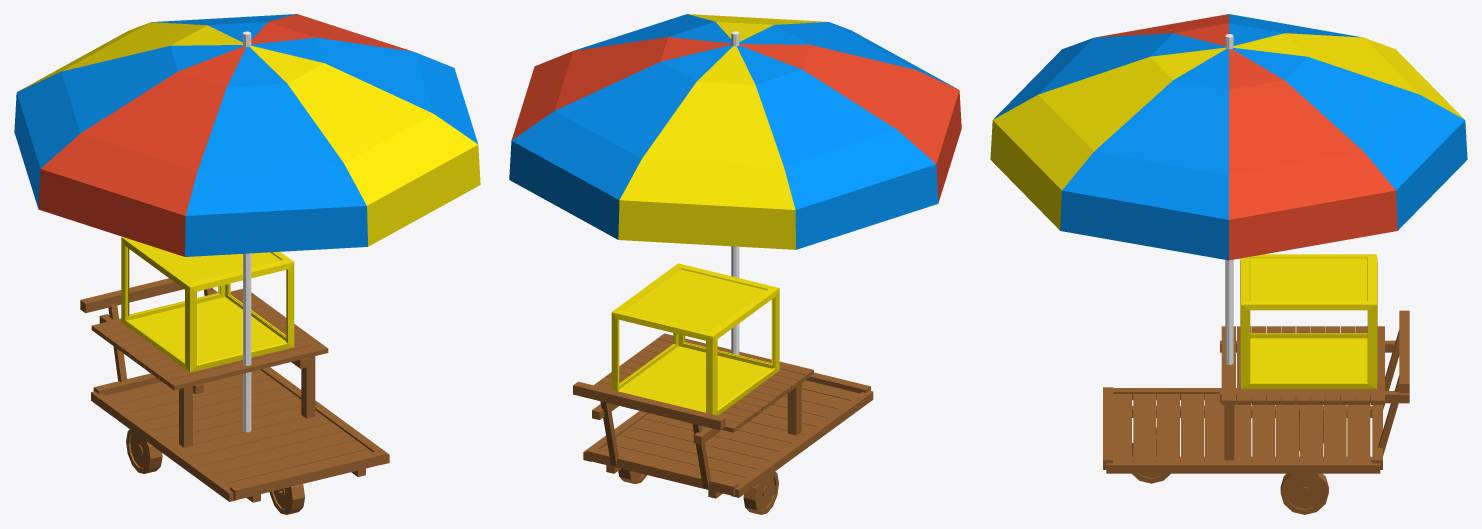
File: pinyapapayapakwan.fbx
3 views of the same model, side by side, from view 1: azimuth 30°, elevation 25°; view 2: azimuth 150°, elevation 25°; view 3: azimuth 270°, elevation 25° (orthographic). The views are drawn at different scales.
Visible parts, largest first — view 1: pinyapapayapakwan, wood, container, pole, wheel, wheel.001; view 2: pinyapapayapakwan, wood, container, wheel, pole; view 3: pinyapapayapakwan, wood, container, wheel, pole.
Boxes of the visible parts, x1=… form: pinyapapayapakwan: x1=14, y1=14, x2=480, y2=256; wood: x1=80, y1=278, x2=389, y2=502; container: x1=121, y1=237, x2=294, y2=372; pole: x1=243, y1=31, x2=251, y2=432; wheel: x1=126, y1=429, x2=162, y2=473; wheel.001: x1=269, y1=484, x2=304, y2=514; pinyapapayapakwan: x1=509, y1=14, x2=961, y2=249; wood: x1=573, y1=333, x2=873, y2=498; container: x1=611, y1=263, x2=779, y2=415; wheel: x1=618, y1=469, x2=778, y2=514; pole: x1=731, y1=31, x2=739, y2=354; pinyapapayapakwan: x1=990, y1=14, x2=1467, y2=260; wood: x1=1103, y1=310, x2=1409, y2=473; container: x1=1240, y1=254, x2=1377, y2=388; wheel: x1=1280, y1=405, x2=1328, y2=514; pole: x1=1225, y1=34, x2=1233, y2=364.
Bounding box in the file's own units: 4.3 × 4.42 × 4.3.
